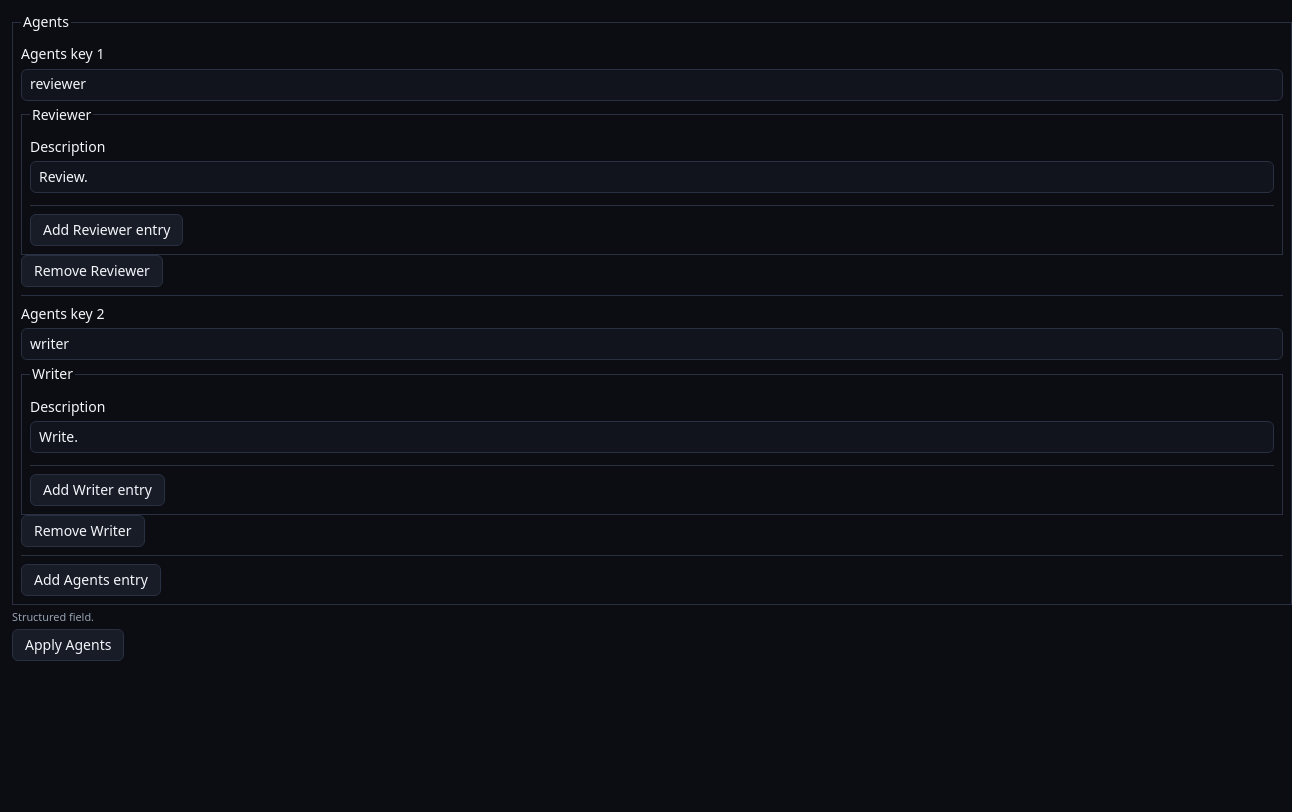
Test: recursive structured inspector controls › keeps map keys as draft entries and blocks duplicate keys before serialization
Step 1. Replace the text in the field labelled "Agents key 2" with "reviewer" → (652, 344), box [21, 328, 1283, 360]
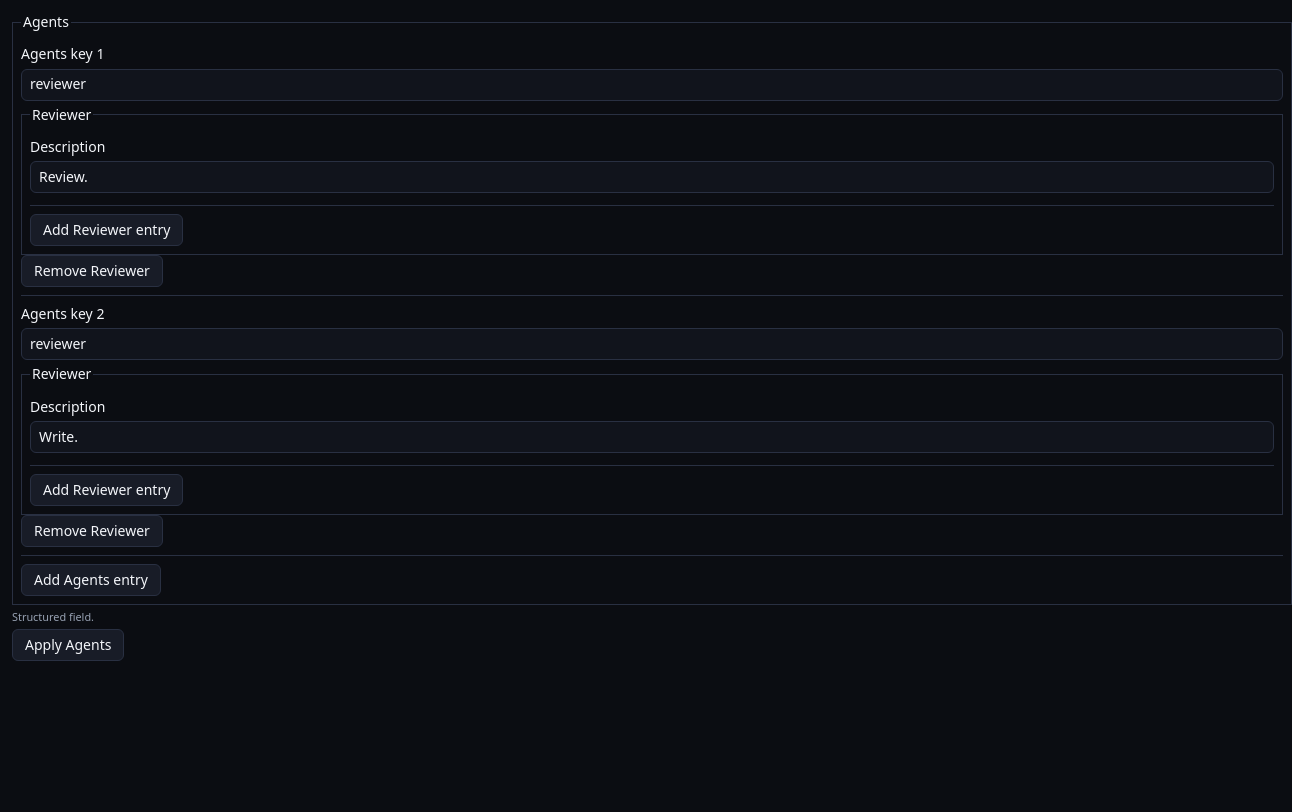
Step 2. Click the button "Apply Agents" → (68, 645), box [12, 629, 124, 661]
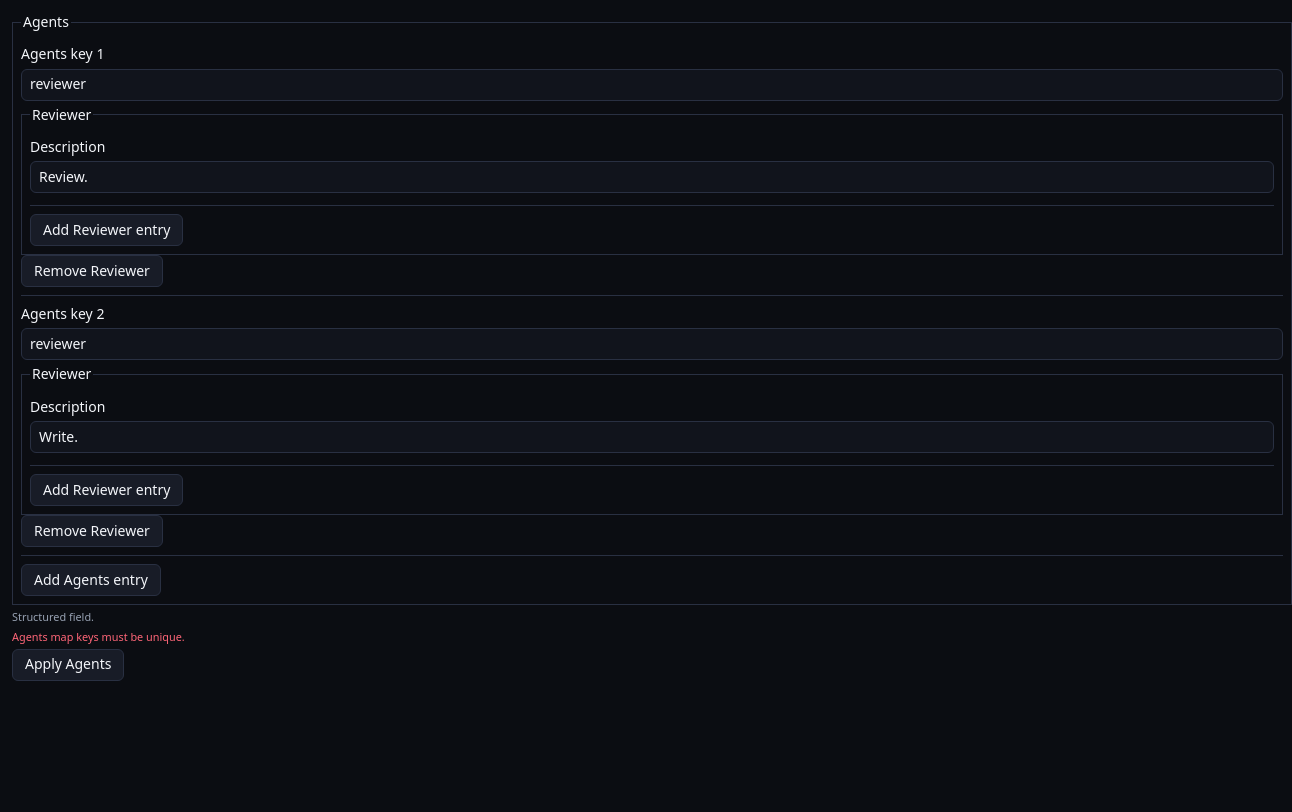
Check: the message shows "map keys must be unique", box [12, 629, 185, 644]
